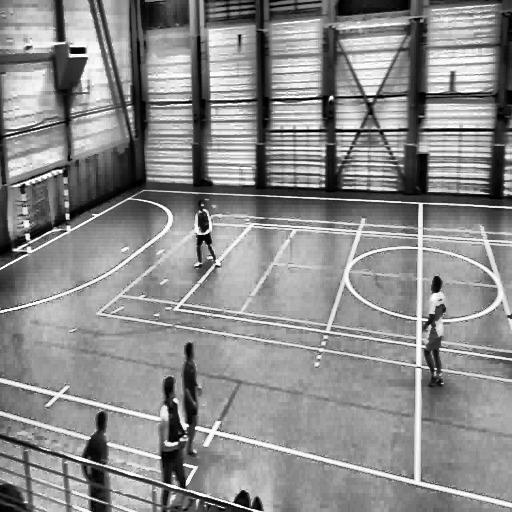ball: (327, 92, 337, 108)
player: (157, 374, 189, 508), (78, 409, 113, 512), (422, 273, 449, 395), (181, 341, 202, 462), (193, 197, 225, 273)
